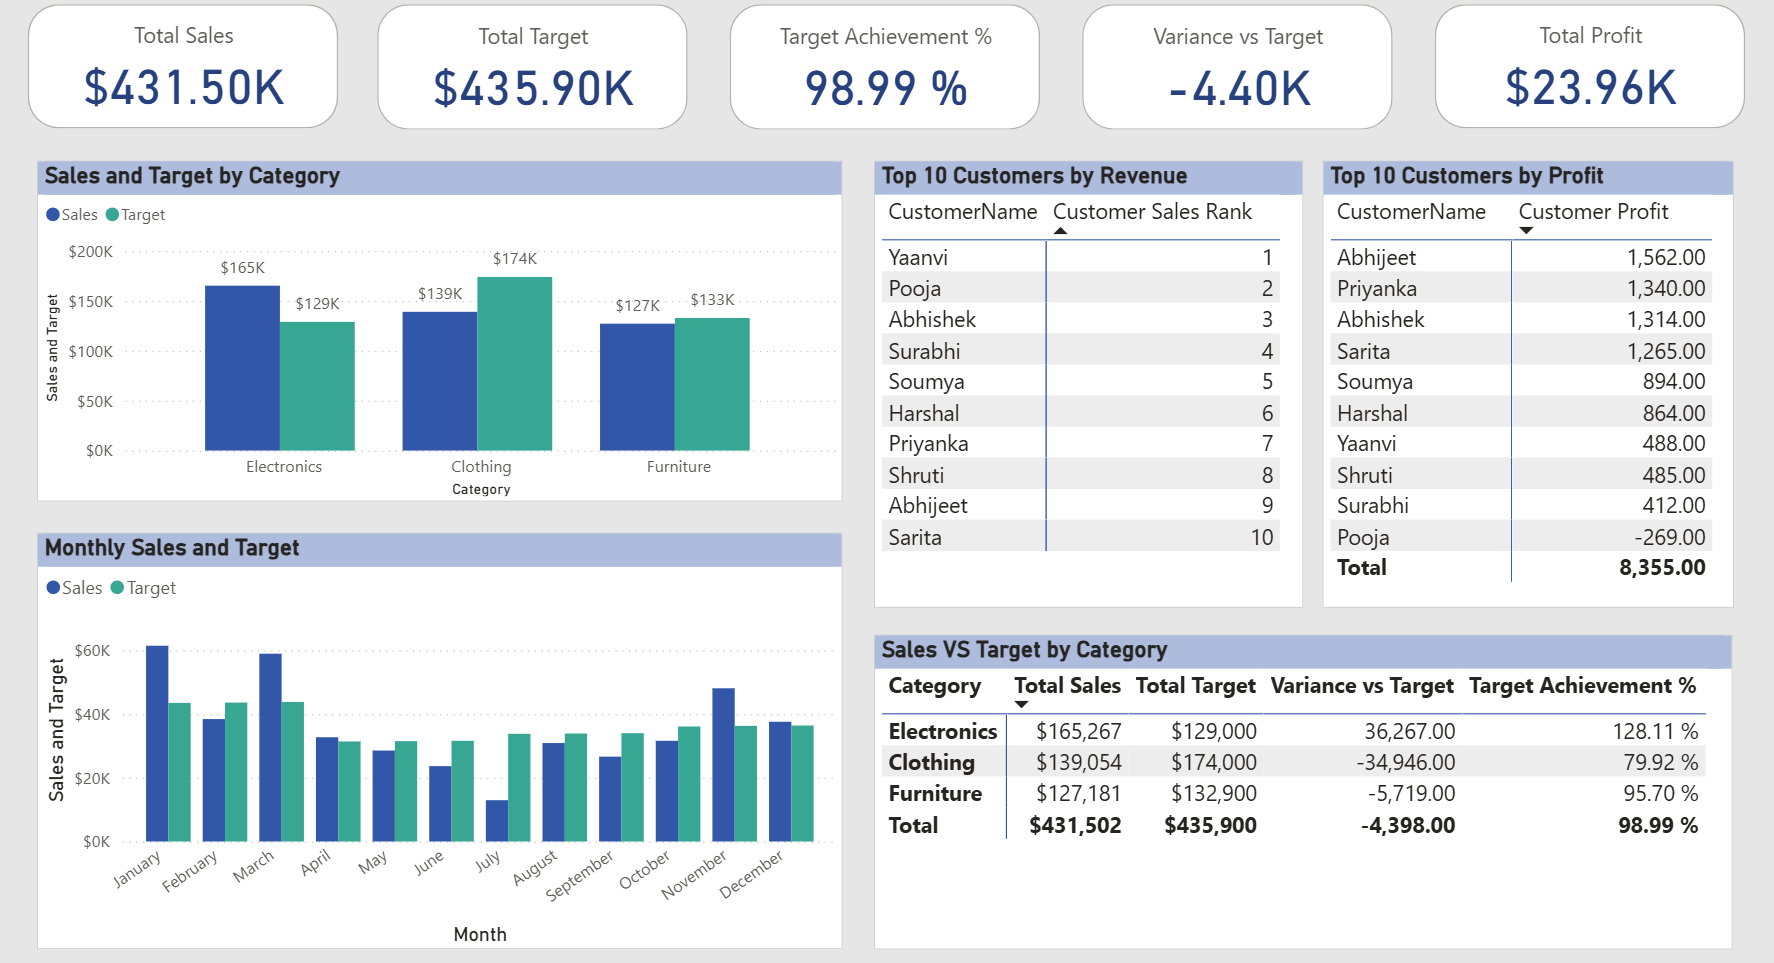

This screenshot's page, from the dashboard's own definition file:
{"tool":"powerbi","page":{"name":"Customer and Target Performance ","canvas":[1280,720],"ordinal":2},"visuals":[{"type":"cardVisual","fields":{"Data":["fact_sales.Total Sales"]},"box":[-0.7,0,240,103],"z":0},{"type":"cardVisual","fields":{"Data":["fact_sales_target.Total Target"]},"box":[257.5,0,240,103.3],"z":1000},{"type":"cardVisual","fields":{"Data":["fact_sales_target.Target Achievement %"]},"box":[519.3,0,240,103.3],"z":2000},{"type":"cardVisual","fields":{"Data":["fact_sales_target.Variance vs Target"]},"box":[779.6,0,240,103.3],"z":3000},{"type":"cardVisual","fields":{"Data":["Sum(fact_sales.Profit)"]},"box":[1041.1,0,240,103],"z":4000},{"type":"pivotTable","title":"Sales VS Target by Category","fields":{"Rows":["dim_category.Category"],"Values":["fact_sales.Total Sales","fact_sales_target.Total Target","fact_sales_target.Variance vs Target","fact_sales_target.Target Achievement %"]},"box":[631.4,472.4,636,233.2],"z":5000},{"type":"pivotTable","title":"Top 10 Customers by Revenue","fields":{"Rows":["dim_customer.CustomerName"],"Values":["fact_sales.Customer Sales Rank"]},"box":[631.4,121.1,318,331.6],"z":6000},{"type":"clusteredColumnChart","title":"Sales and Target by Category","fields":{"Category":["dim_category.Category"],"Y":["fact_sales.Total Sales","fact_sales_target.Total Target"]},"box":[10.6,121.1,596.6,252.9],"z":7000},{"type":"pivotTable","title":"Top 10 Customers by Profit","fields":{"Rows":["dim_customer.CustomerName"],"Values":["fact_sales.Customer Profit"]},"box":[963,121.1,304.4,331.6],"z":8000},{"type":"clusteredColumnChart","title":"Monthly Sales and Target","fields":{"Y":["fact_sales.Total Sales","fact_sales_target.Total Target"],"Category":["dim_date.MonthName"]},"box":[10.6,396.7,596.6,308.9],"z":9000}]}

Visuals, with their boxes on the page's 1280x720 design canvas (x1, y1, x2, y2). These are canvas units, not pixel positions in the 1774x963 screenshot, which may show the page scaled, cropped or inside an application window:
cardVisual - fact_sales.Total Sales: l=-1, t=0, r=239, b=103
cardVisual - fact_sales_target.Total Target: l=258, t=0, r=498, b=103
cardVisual - fact_sales_target.Target Achievement %: l=519, t=0, r=759, b=103
cardVisual - fact_sales_target.Variance vs Target: l=780, t=0, r=1020, b=103
cardVisual - Sum(fact_sales.Profit): l=1041, t=0, r=1281, b=103
"Sales VS Target by Category" pivotTable: l=631, t=472, r=1267, b=706
"Top 10 Customers by Revenue" pivotTable: l=631, t=121, r=949, b=453
"Sales and Target by Category" clusteredColumnChart: l=11, t=121, r=607, b=374
"Top 10 Customers by Profit" pivotTable: l=963, t=121, r=1267, b=453
"Monthly Sales and Target" clusteredColumnChart: l=11, t=397, r=607, b=706
